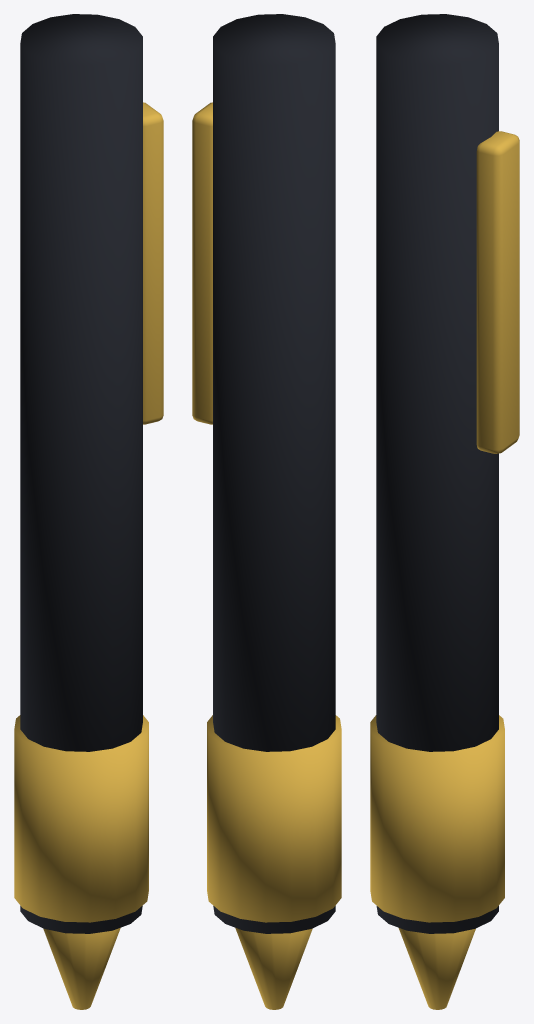
The model's file is Doc_SignaturePen.fbx.
The picture shows the model from 3 angles, left to right: view 1: azimuth 30°, elevation 25°; view 2: azimuth 150°, elevation 25°; view 3: azimuth 330°, elevation 25°; orthographic projection.
Visible parts, largest first — view 1: Pen_Barrel, Pen_GripBand, Pen_PocketClip, Pen_Nib; view 2: Pen_Barrel, Pen_GripBand, Pen_PocketClip, Pen_Nib; view 3: Pen_Barrel, Pen_GripBand, Pen_PocketClip, Pen_Nib.
Boxes of the visible parts, left/top/right/bottom form: Pen_Barrel: left=20, top=14, right=142, bottom=933; Pen_GripBand: left=14, top=715, right=148, bottom=922; Pen_PocketClip: left=143, top=102, right=163, bottom=424; Pen_Nib: left=43, top=928, right=120, bottom=1009; Pen_Barrel: left=213, top=14, right=335, bottom=933; Pen_GripBand: left=207, top=715, right=341, bottom=922; Pen_PocketClip: left=192, top=102, right=212, bottom=424; Pen_Nib: left=235, top=928, right=312, bottom=1009; Pen_Barrel: left=376, top=14, right=498, bottom=933; Pen_GripBand: left=370, top=715, right=504, bottom=922; Pen_PocketClip: left=476, top=131, right=519, bottom=453; Pen_Nib: left=398, top=928, right=475, bottom=1009.
Size of the model in its own units: 0.99 by 6.9 by 0.88.
